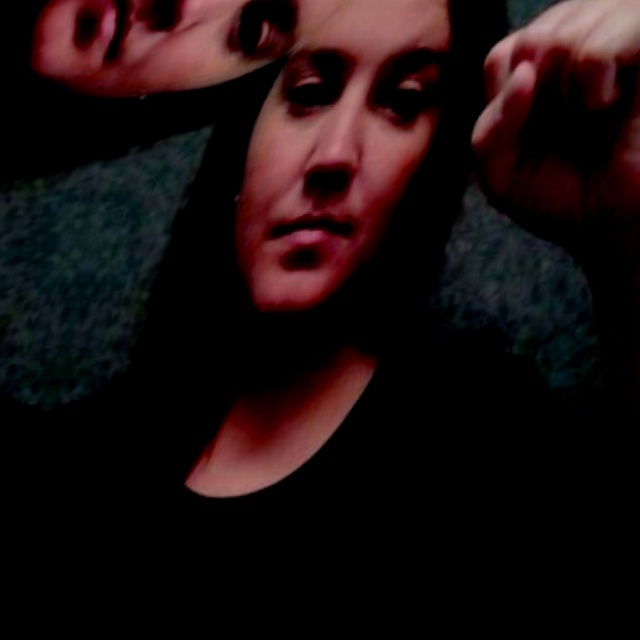Rock: (0, 0, 441, 27)
